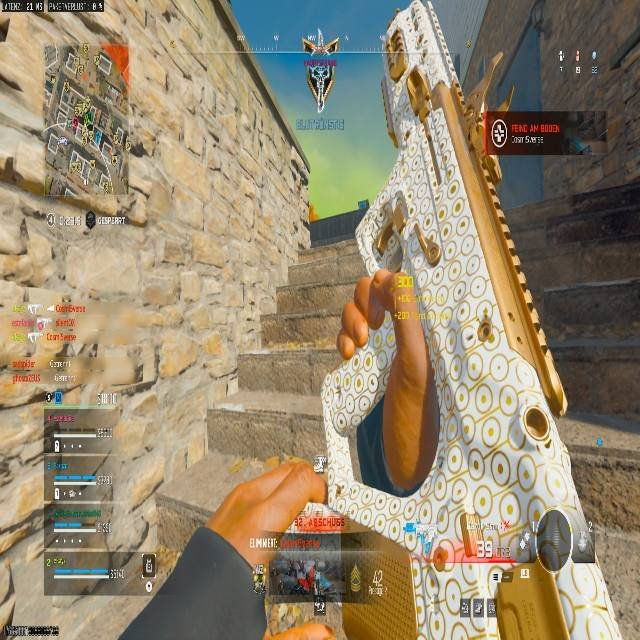player: (318, 173, 450, 498)
